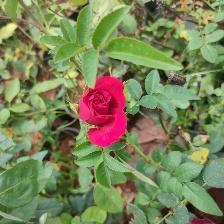rose: (79, 77, 130, 150)
